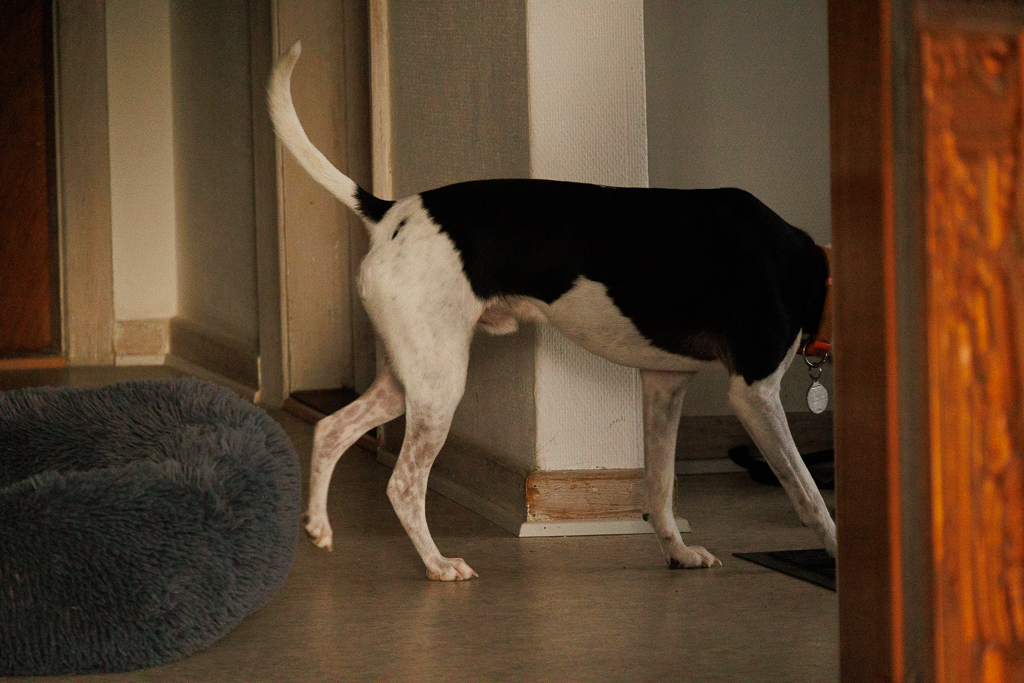Dog: (260, 33, 851, 600)
